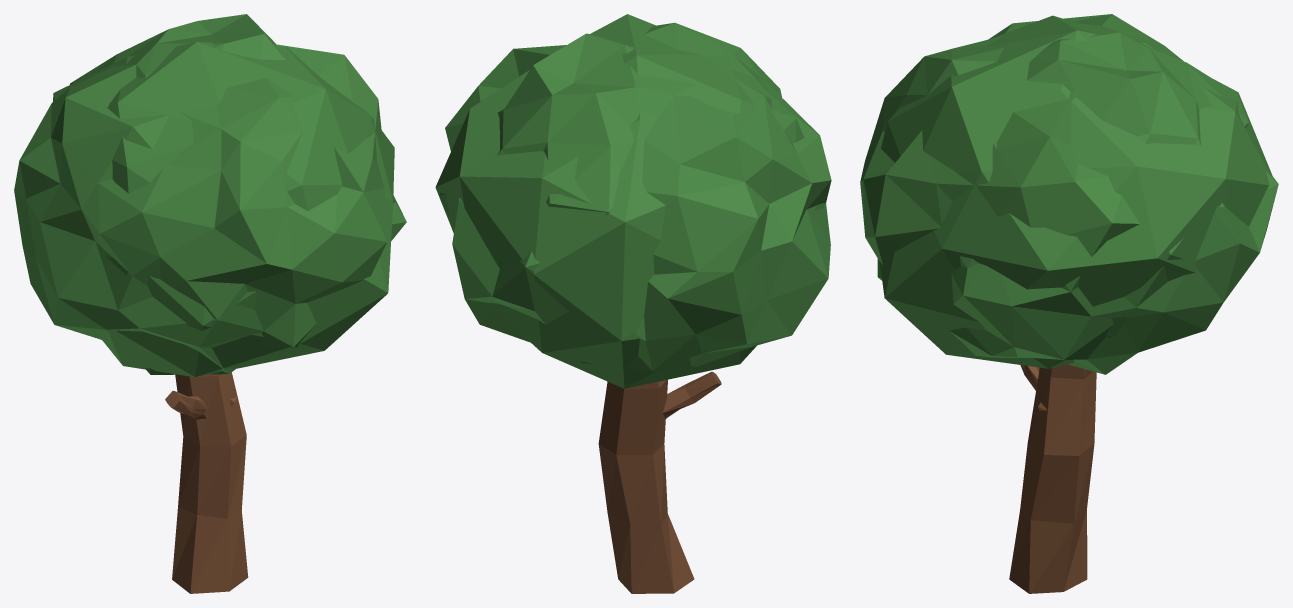
The model's file is NTree1.fbx.
3 renders of one model, left to right at view 1: azimuth 30°, elevation 25°; view 2: azimuth 150°, elevation 25°; view 3: azimuth 270°, elevation 25°, orthographic. The views are drawn at different scales.
Visible parts, largest first — view 1: GeneratedLeaves, LOD_Test, GeneratedBranch, GeneratedBranch_Clone__2; view 2: GeneratedLeaves, LOD_Test, GeneratedBranch, GeneratedBranch_Clone__2; view 3: GeneratedLeaves, LOD_Test, GeneratedBranch.
Part boxes in pixels (<box>): GeneratedLeaves: <box>14,14,406,374</box>; LOD_Test: <box>53,42,394,376</box>; GeneratedBranch: <box>172,372,248,593</box>; GeneratedBranch_Clone__2: <box>165,391,207,419</box>; GeneratedLeaves: <box>439,22,831,371</box>; LOD_Test: <box>435,14,824,388</box>; GeneratedBranch: <box>598,379,694,593</box>; GeneratedBranch_Clone__2: <box>663,371,721,419</box>; GeneratedLeaves: <box>860,14,1278,374</box>; LOD_Test: <box>879,15,1272,368</box>; GeneratedBranch: <box>1009,364,1096,593</box>.
Bounding box in the file's own units: 803 × 1162 × 802.
